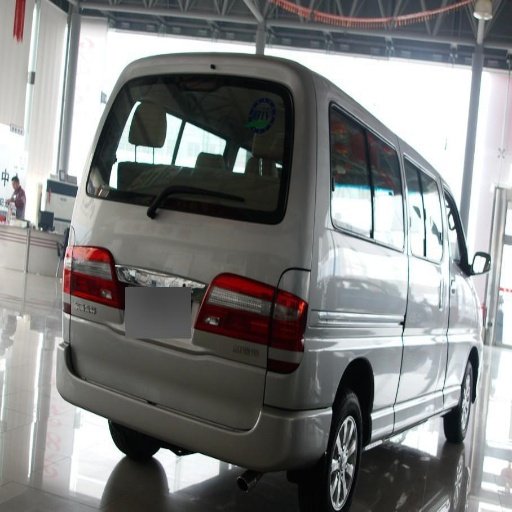back_bumper: (57, 315, 332, 471), (266, 347, 316, 397)
back_glass: (93, 108, 279, 221)
back_left_door: (250, 79, 295, 143)
back_left_light: (60, 245, 119, 313)
back_right_door: (335, 165, 421, 290)
trunk: (67, 200, 283, 422), (268, 310, 476, 421)
